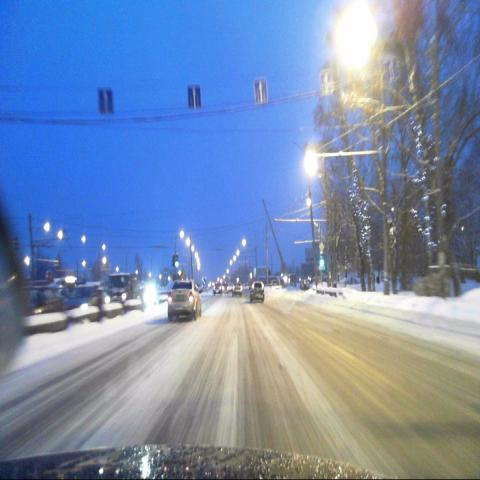5_15_2: (319, 66, 333, 95)
